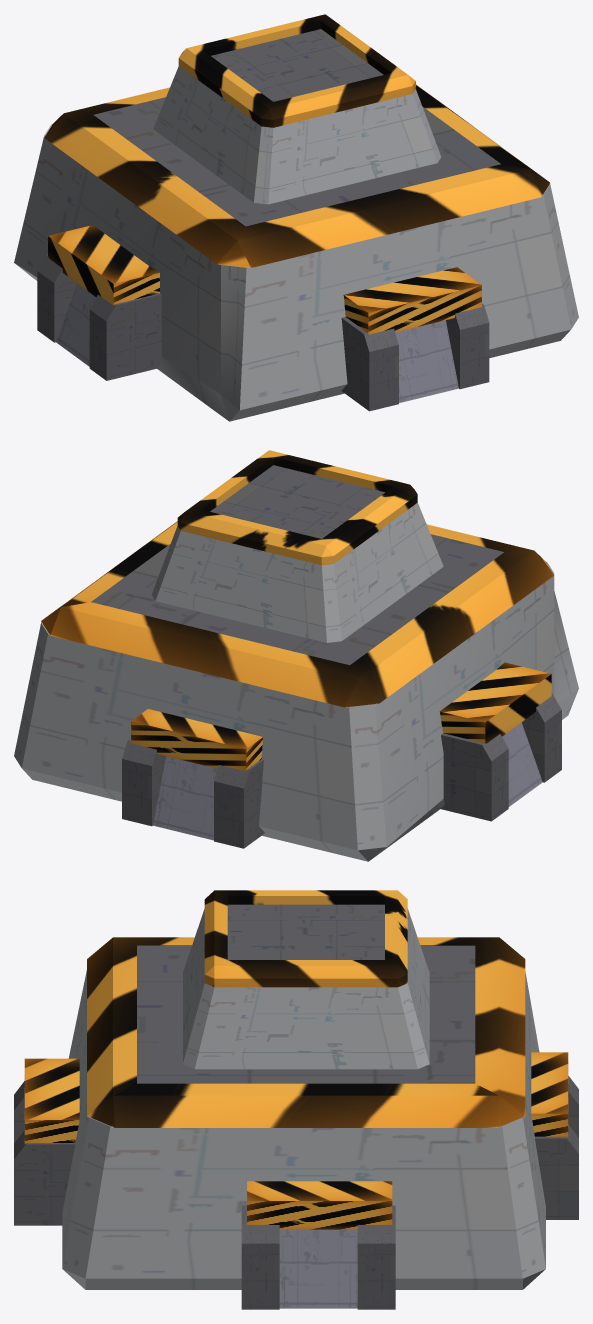
The model's file is save_point.obj.
The picture shows the model from 3 angles, top to bottom: view 1: azimuth 30°, elevation 25°; view 2: azimuth 150°, elevation 25°; view 3: azimuth 270°, elevation 25°; orthographic projection. The views are drawn at different scales.
Visible parts, largest first — view 1: Box002, Object002, Object001, Object004, Object003, Object005; view 2: Box002, Object002, Object001, Object004, Object003, Object005; view 3: Box002, Object002, Object001, Object004, Object003, Object005.
Part boxes in pixels (x1,y1,x2,y2): Box002: (14, 66, 578, 421); Object002: (44, 14, 549, 267); Object001: (93, 29, 500, 226); Object004: (37, 254, 489, 411); Object003: (48, 225, 481, 334); Object005: (56, 283, 458, 402); Box002: (14, 502, 578, 861); Object002: (41, 450, 553, 707); Object001: (91, 465, 503, 665); Object004: (122, 693, 561, 848); Object003: (131, 662, 551, 771); Object005: (153, 722, 542, 840); Box002: (62, 908, 545, 1289); Object002: (87, 890, 525, 1127); Object001: (137, 904, 475, 1083); Object004: (14, 1076, 578, 1309); Object003: (24, 1052, 568, 1229); Object005: (279, 1229, 357, 1308).
Bounding box in the file's own units: 159 × 84.82 × 159.
4 materials, 4 textured.
